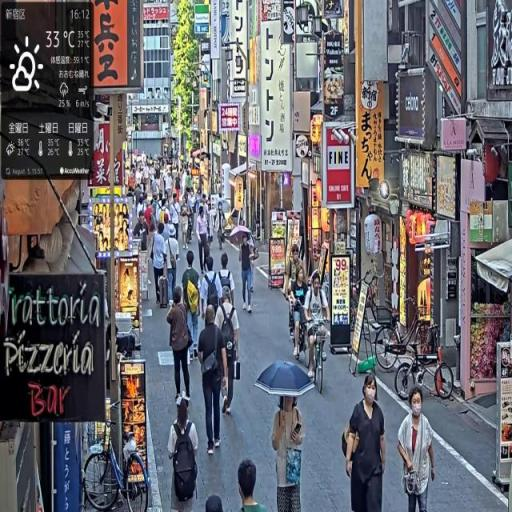person: (344, 373, 389, 512), (396, 388, 438, 512), (198, 300, 228, 456), (169, 394, 201, 511), (271, 396, 305, 504), (168, 284, 195, 407), (216, 289, 241, 420), (304, 270, 332, 383), (183, 255, 203, 367), (200, 252, 224, 325), (151, 220, 169, 311), (240, 233, 256, 313), (197, 204, 212, 276), (218, 253, 236, 311)
